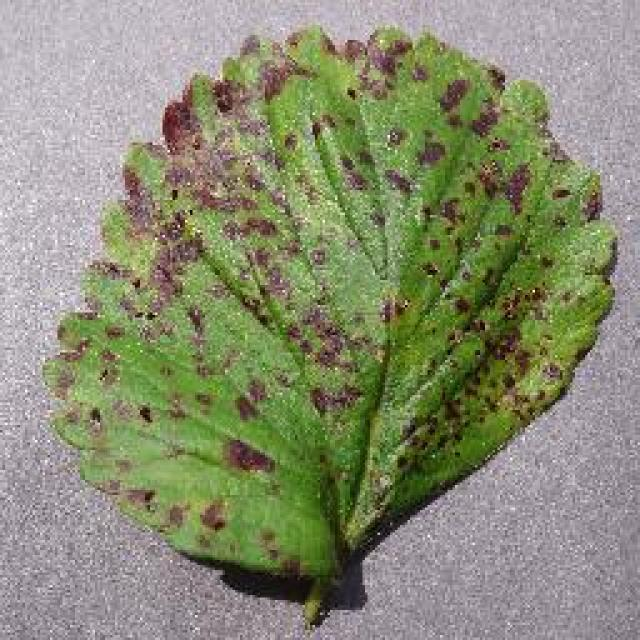Strawberry leaf scorch: (172, 105, 522, 440)
